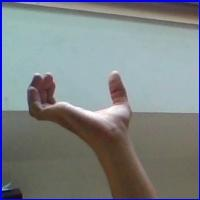B: (23, 67, 142, 153)
